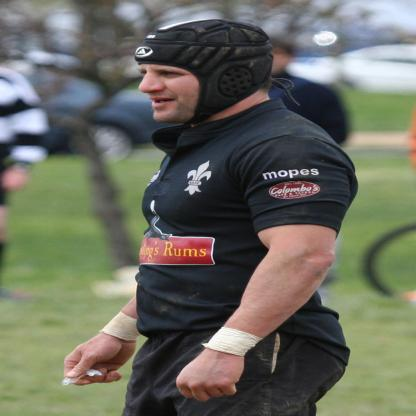Helmet: (126, 17, 280, 120)
